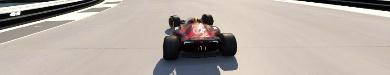Car: (162, 13, 237, 59)
obstacles-Borders: (0, 0, 106, 37)
